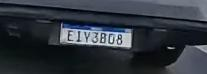Placa_mercosul_carro: (60, 23, 133, 49)
